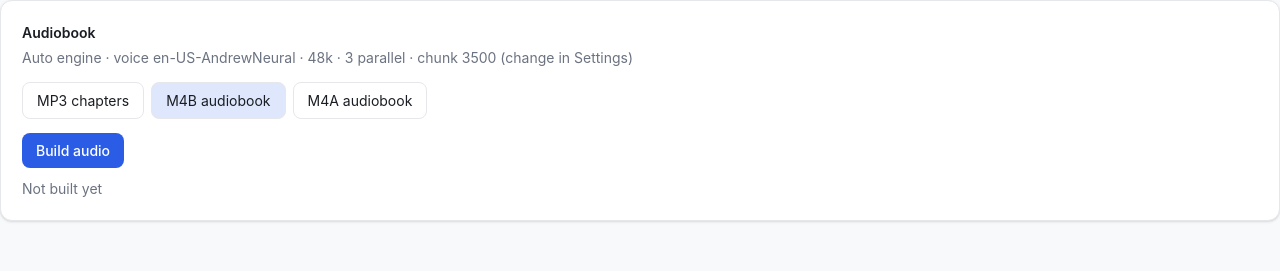
Test: Audiobook — Step 7 MP3/M4B/M4A › CACHE_MISS shows fetch-first hint with missing
This screenshot has width=1280, height=271.
Click the button with test id "audio-build": click(73, 150) [22,132,124,168]
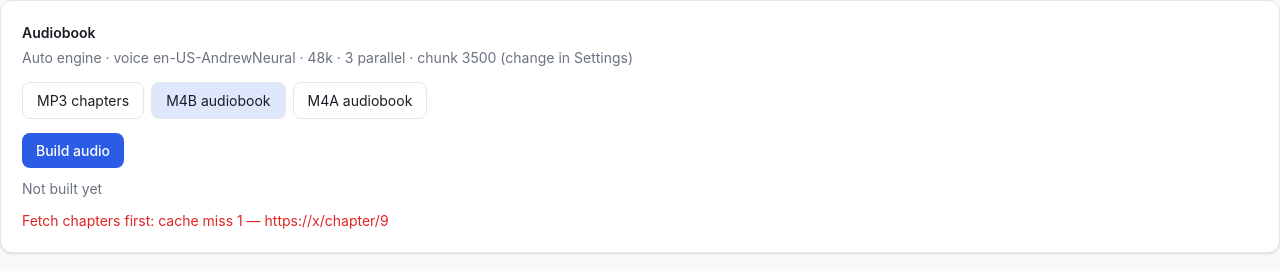
Check: the message "Fetch chapters first: cache miss 1 — https://x/chapter/9" is shown, box [22,212,389,228]
Check: the message with test id "audio-error" reads "Fetch chapters first: cache miss 1 — https://x/chapter/9", box [22,212,243,228]
Check: the message with test id "audio-error" shows "https://x/chapter/9", box [247,212,389,228]
